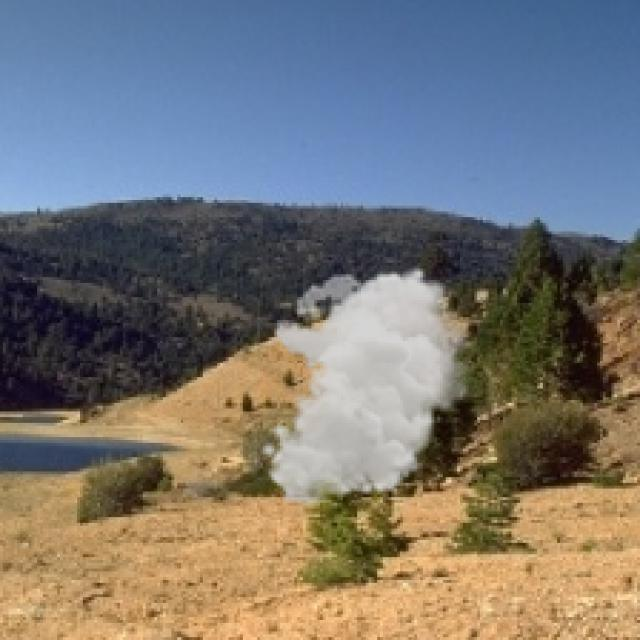Smoke: (260, 266, 477, 506)
